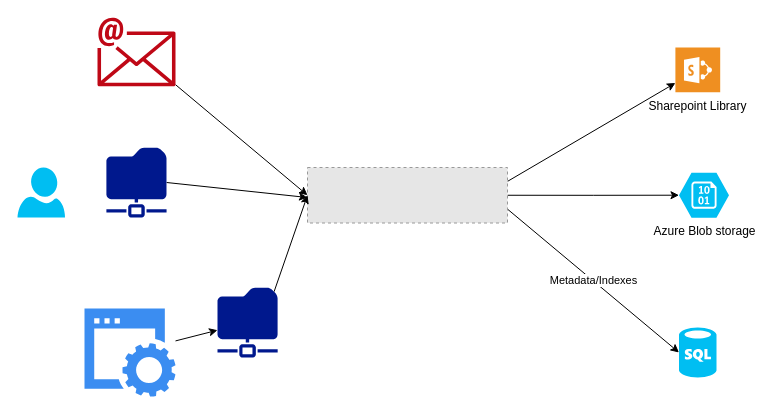
Image size: 772x414. Some labels were removed from this diagram. Grey dashed boxes stand in for pictures. The centre of each missing label's shape, as x and y in pixels:
"Doc Submission Website" belongs at (129,352).
"Shared drive" belongs at (136,182).
